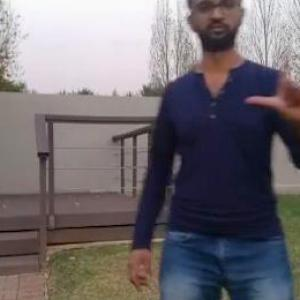land_hand: (244, 30, 299, 130)
